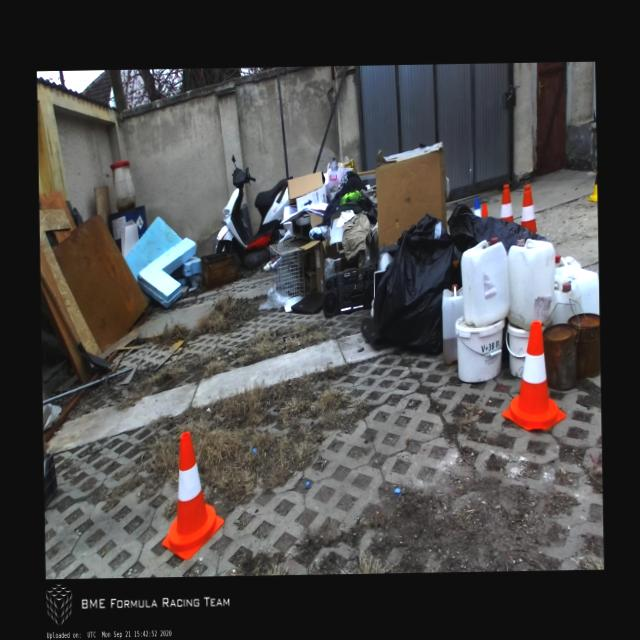blue_cone: (472, 196, 482, 216)
large_orange_cone: (520, 183, 536, 234), (499, 184, 513, 221)
orange_cone: (160, 431, 224, 560), (500, 321, 566, 432)
yellow_cone: (588, 158, 596, 202)
